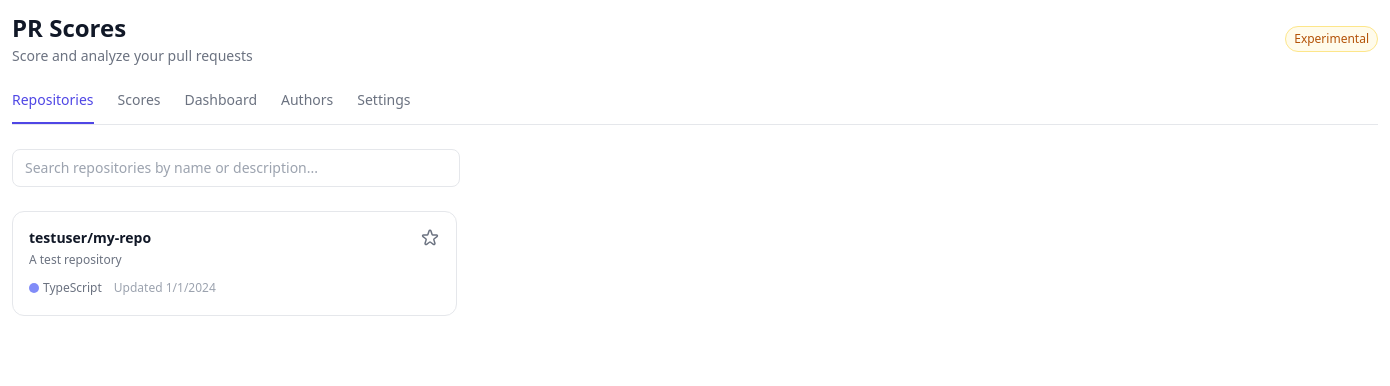
Test: PrScores › with feature flags enabled — PRs view › shows PRs scored subtitle
Click the heading "testuser/my-repo": (90, 238) [29,228,151,248]
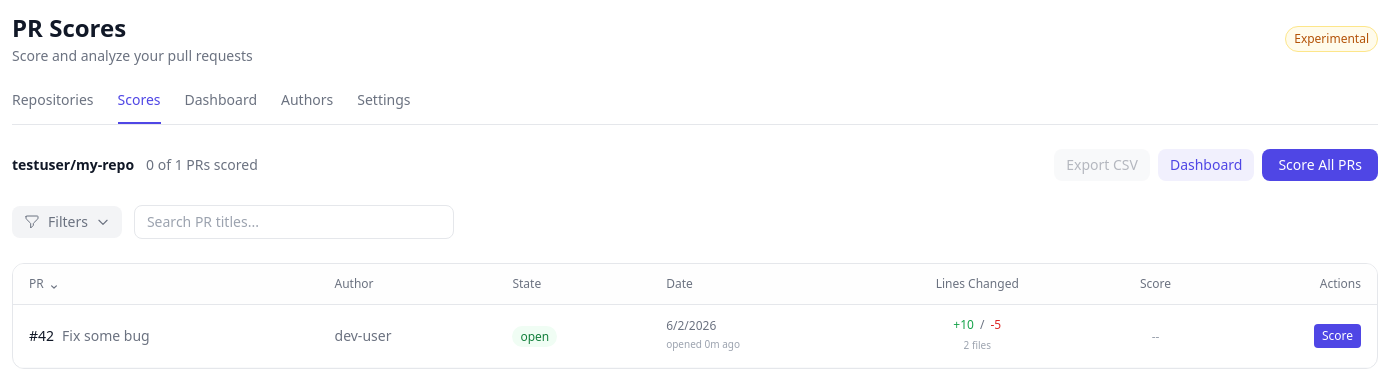
Result: the text "0 of 1 PRs scored" is shown at [146,155,258,175]
